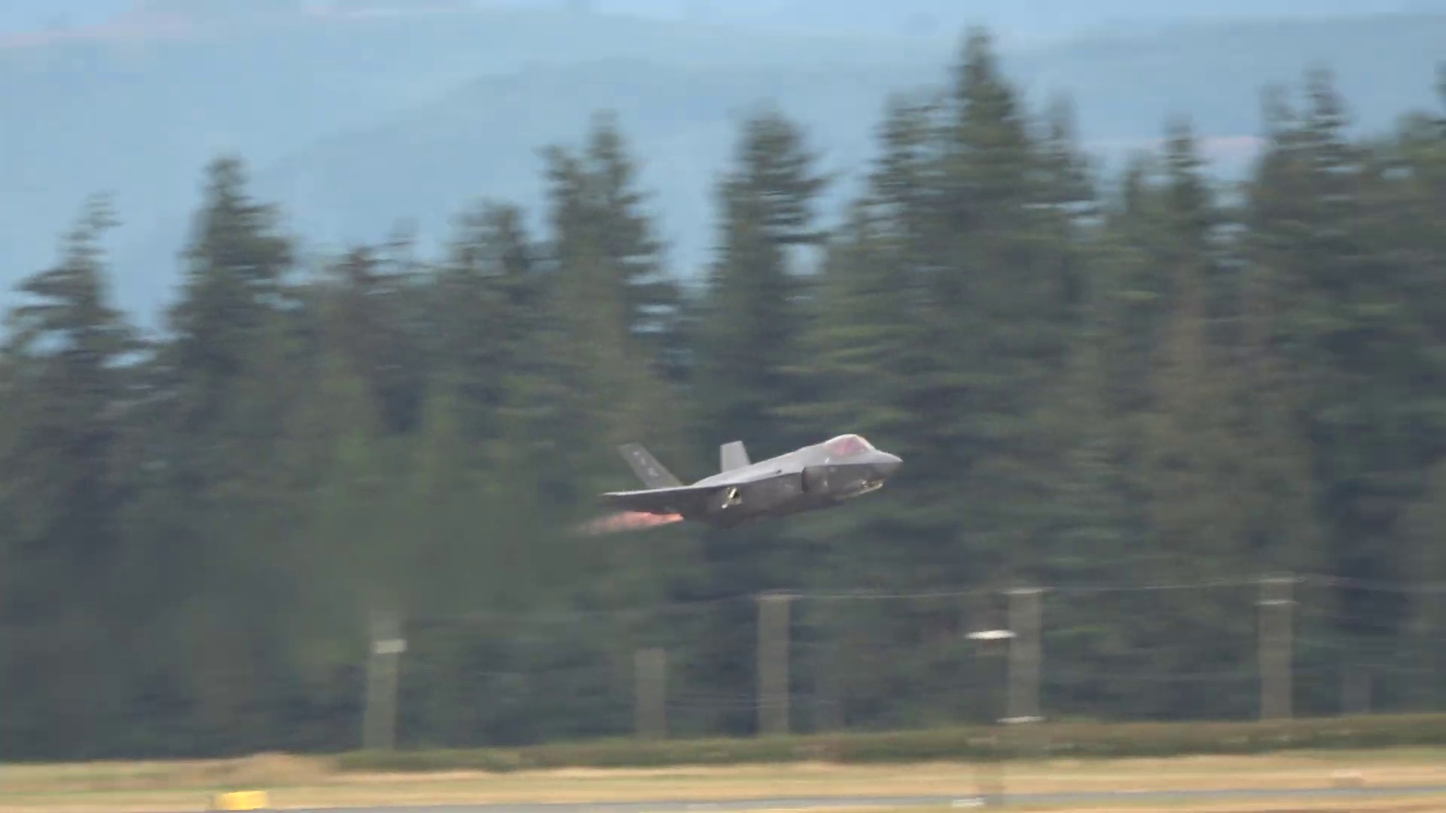F35: (594, 429, 901, 529)
